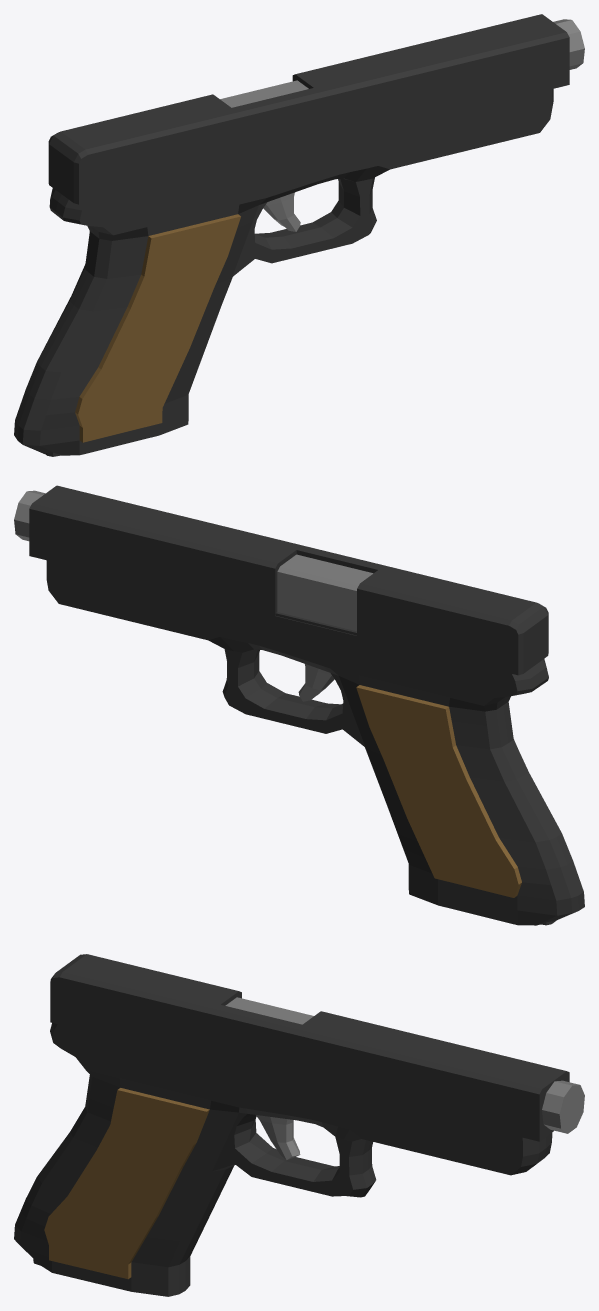
Rendered from Pistol Glock.fbx.
The picture shows the model from 3 angles, top to bottom: view 1: azimuth 30°, elevation 25°; view 2: azimuth 150°, elevation 25°; view 3: azimuth 330°, elevation 25°; orthographic projection.
Visible parts, largest first — view 1: bodypart1, bodypart4, bodypart3; view 2: bodypart1, bodypart4, bodypart3; view 3: bodypart1, bodypart4, bodypart3.
Part boxes in pixels (box(x1,y1,x2,y2)): bodypart1: box(14, 89, 553, 455); bodypart4: box(48, 14, 584, 204); bodypart3: box(263, 192, 300, 231); bodypart1: box(46, 560, 584, 925); bodypart4: box(14, 485, 548, 675); bodypart3: box(298, 664, 334, 701); bodypart1: box(14, 1023, 552, 1296); bodypart4: box(50, 954, 584, 1141); bodypart3: box(256, 1115, 300, 1159).
Size of the model in its own units: 394 by 205 by 44.36.
